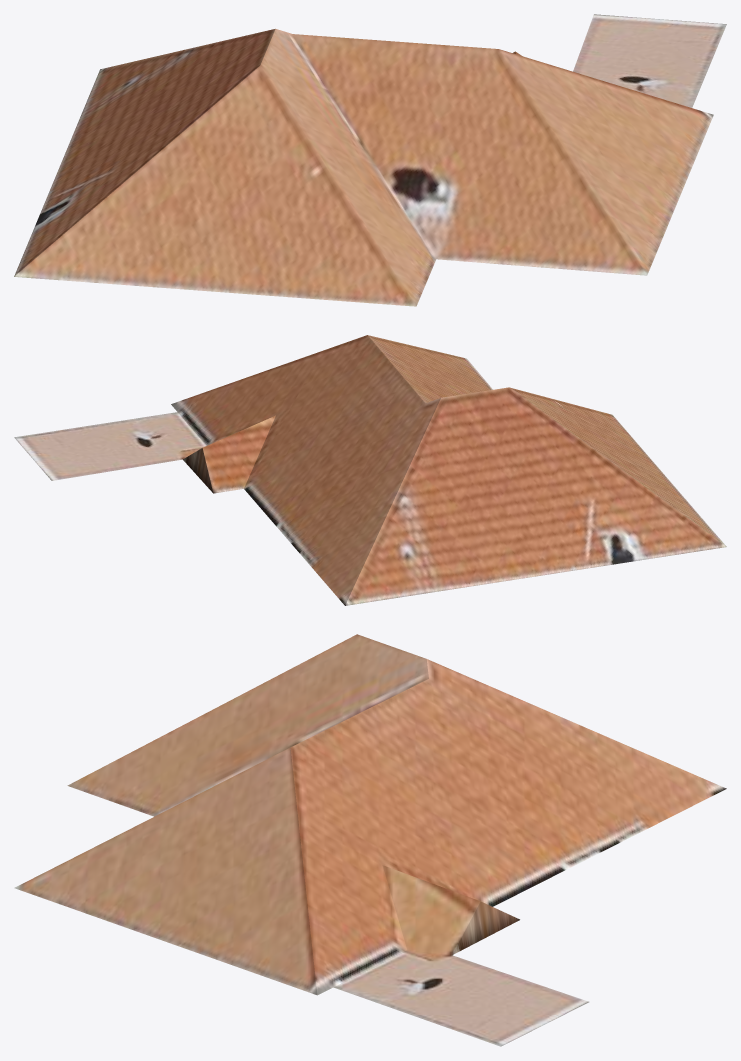
File: BJ39_500_100049_0041_roof.obj
3 renders of one model, top to bottom at view 1: azimuth 30°, elevation 25°; view 2: azimuth 150°, elevation 25°; view 3: azimuth 270°, elevation 25°, orthographic. The views are drawn at different scales.
Visible parts, largest first — view 1: BJ39_500_100049_0041_roof; view 2: BJ39_500_100049_0041_roof; view 3: BJ39_500_100049_0041_roof.
Boxes of the visible parts, x1=… form: BJ39_500_100049_0041_roof: x1=14, y1=14, x2=726, y2=306; BJ39_500_100049_0041_roof: x1=14, y1=335, x2=726, y2=605; BJ39_500_100049_0041_roof: x1=14, y1=634, x2=726, y2=1046.
Size of the model in its own units: 413 by 70 by 313.
1 material, 1 textured.
